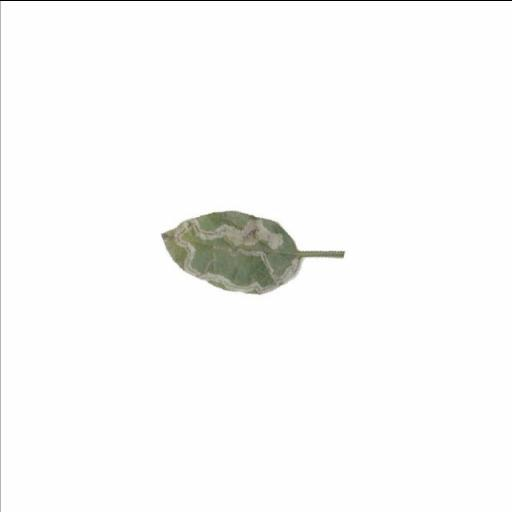disease_tomato: (160, 210, 302, 291)
